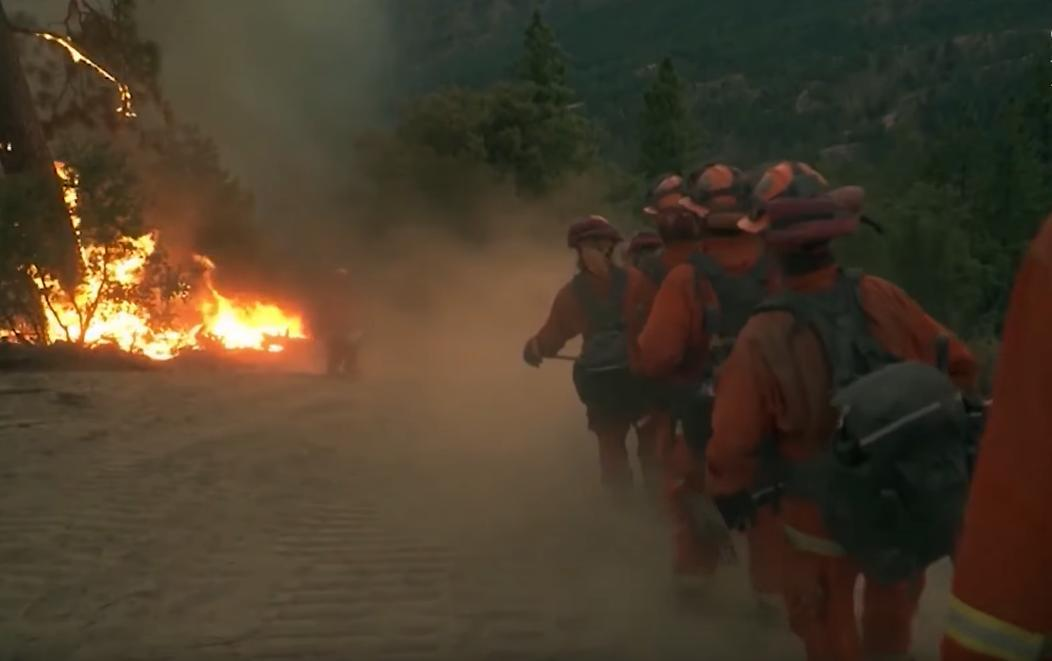Fire: (5, 141, 322, 377), (35, 24, 137, 116)
